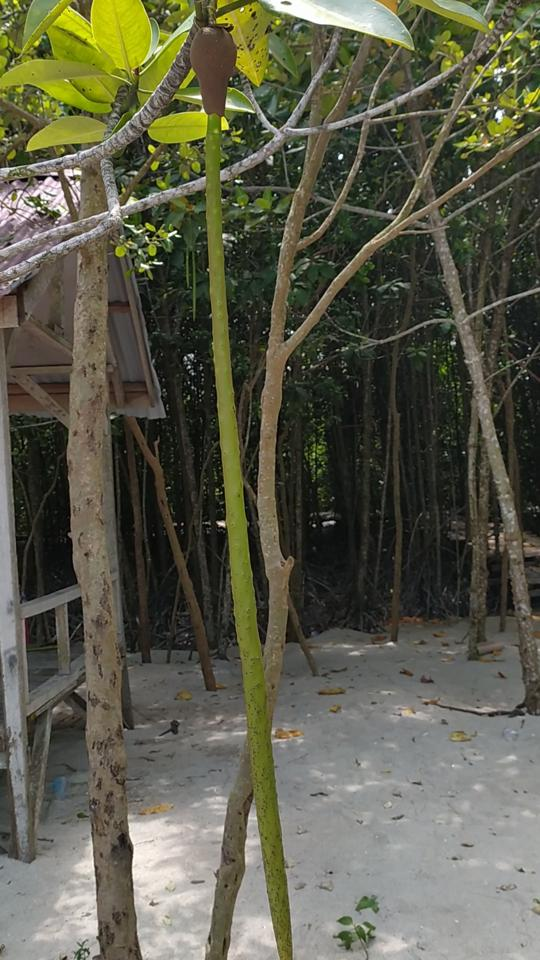mentah: (176, 15, 311, 955)
